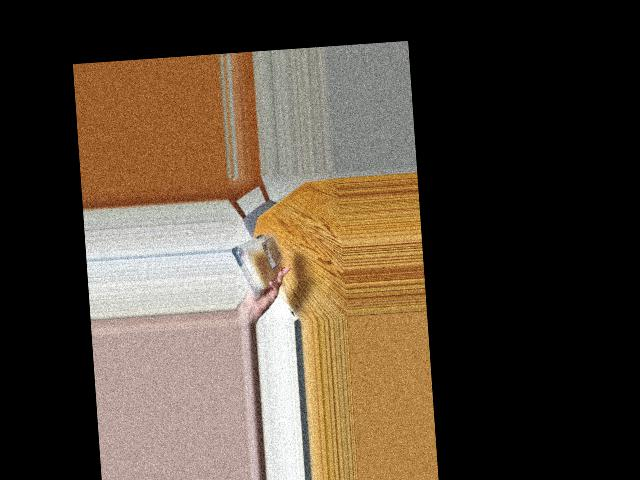cheese: (234, 233, 285, 291)
